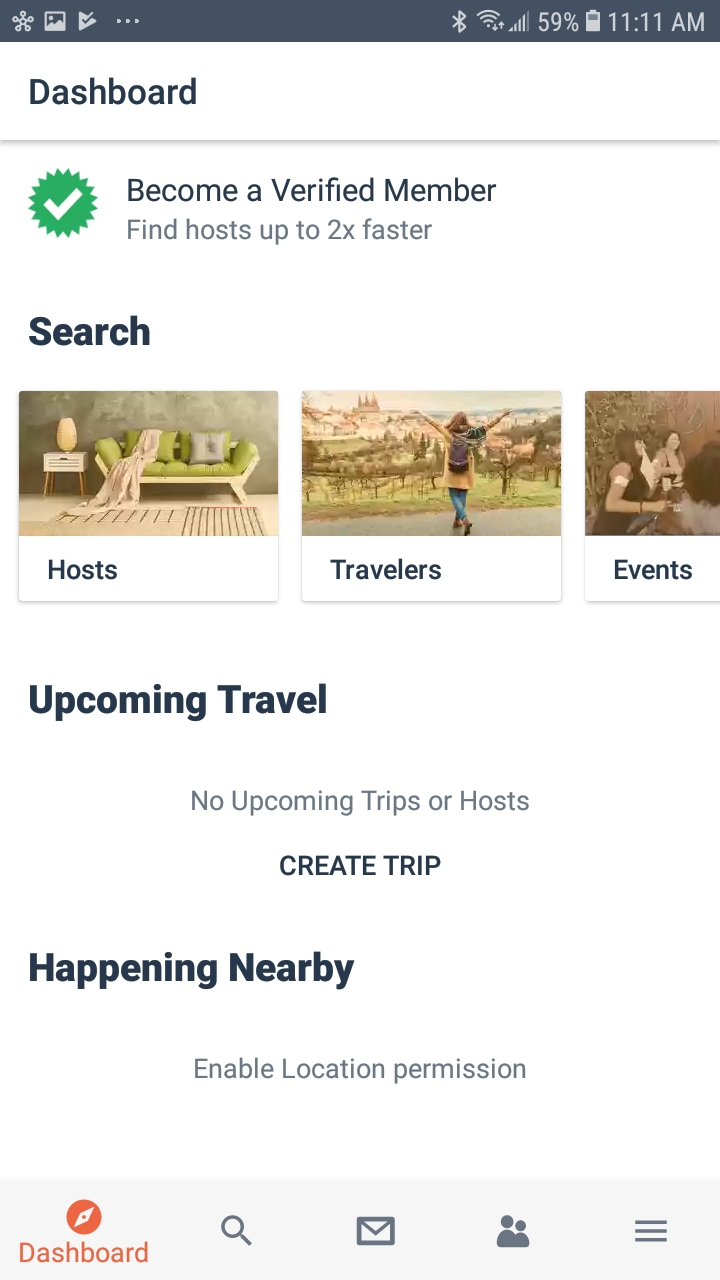Icon: (29, 169, 99, 239), (67, 1199, 103, 1235), (357, 1216, 396, 1246), (496, 1215, 530, 1248), (221, 1214, 253, 1246), (635, 1220, 668, 1243)
Image: (302, 391, 561, 537), (20, 392, 279, 537), (585, 392, 720, 537)
Text: (129, 177, 497, 246), (30, 951, 356, 990), (30, 683, 327, 722), (192, 790, 530, 817), (195, 1057, 526, 1084), (31, 78, 197, 106), (30, 315, 151, 347), (281, 854, 442, 876), (20, 1241, 149, 1263), (330, 558, 442, 580), (614, 559, 692, 581), (49, 559, 118, 581)
UpperTaskBar: (1, 1, 720, 43)
